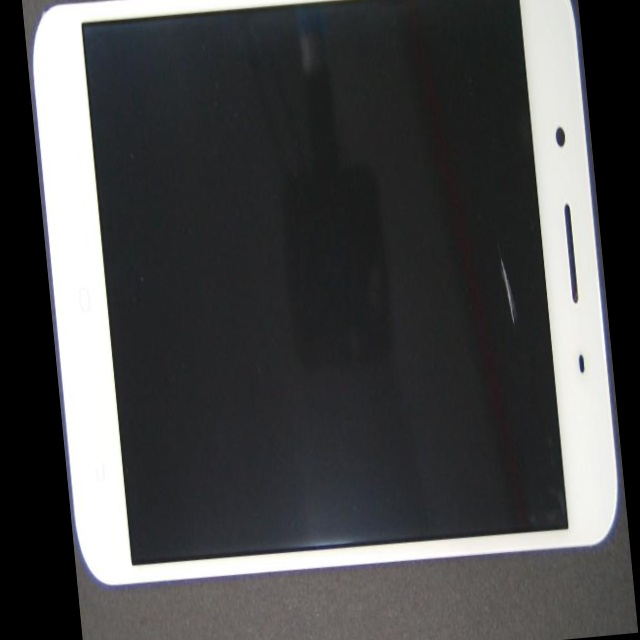scratch: (261, 143, 628, 560)
